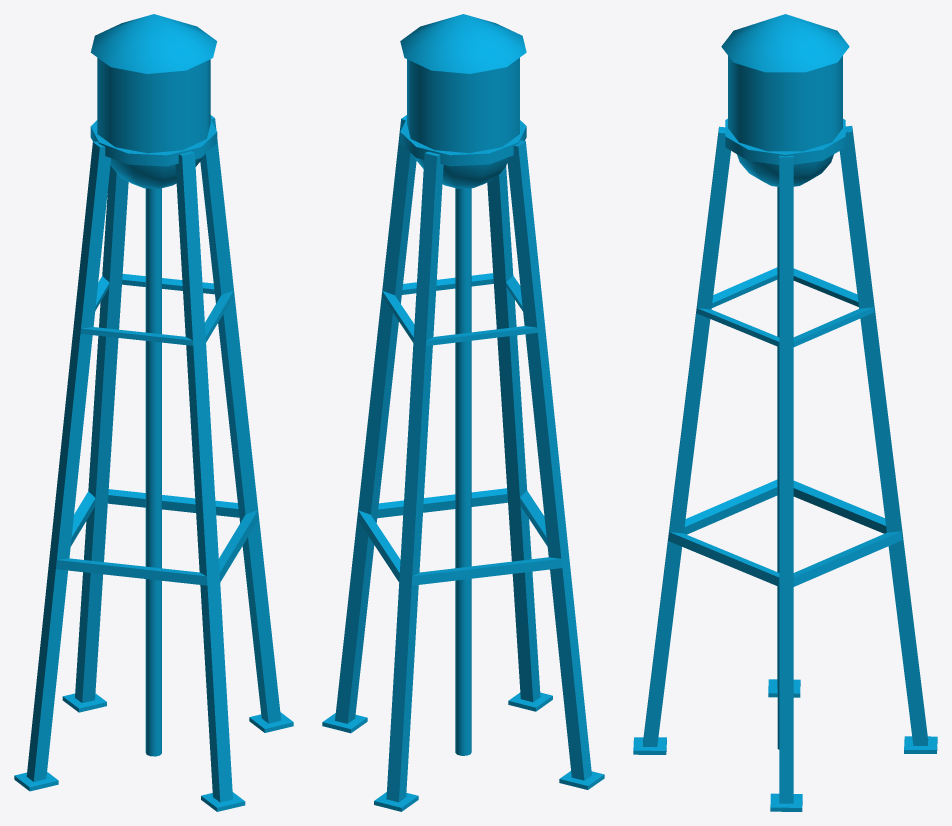
The model's file is Water_Tower_Lod1.fbx.
3 renders of one model, left to right at view 1: azimuth 30°, elevation 25°; view 2: azimuth 150°, elevation 25°; view 3: azimuth 270°, elevation 25°, orthographic.
Parts seen in each view (by area): view 1: Water_Tower_Lod1; view 2: Water_Tower_Lod1; view 3: Water_Tower_Lod1.
Part boxes in pixels (<box>): Water_Tower_Lod1: <box>14,14,293,811</box>; Water_Tower_Lod1: <box>322,14,604,811</box>; Water_Tower_Lod1: <box>633,14,937,811</box>.
Size of the model in its own units: 1028 by 2736 by 1028.
